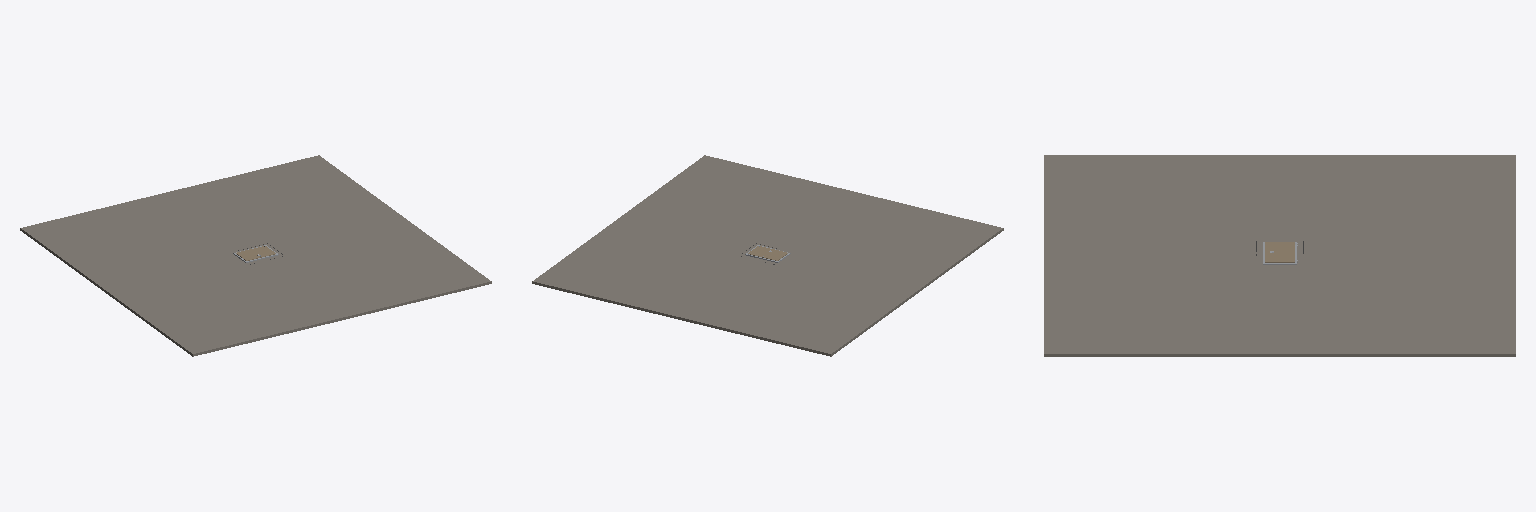
The robot description file, URDF, robot "db0452_hatch_floor_full":
<?xml version="1.0" ?>
<robot xmlns:doorbench="https://github.com/adamraudonis/DoorBench/schema/urdf-ext" name="db0452_hatch_floor_full">
  <link name="world_env">
    <visual name="floor_a_vis">
      <origin xyz="-3.3025 0 -0.05" rpy="0 0 0"/>
      <geometry>
        <box size="5.395 12 0.1"/>
      </geometry>
      <material name="mat_floor"/>
    </visual>
    <collision name="floor_a_col">
      <origin xyz="-3.3025 0 -0.05" rpy="0 0 0"/>
      <geometry>
        <box size="5.395 12 0.1"/>
      </geometry>
    </collision>
    <visual name="floor_b_vis">
      <origin xyz="3.3025 0 -0.05" rpy="0 0 0"/>
      <geometry>
        <box size="5.395 12 0.1"/>
      </geometry>
      <material name="mat_floor"/>
    </visual>
    <collision name="floor_b_col">
      <origin xyz="3.3025 0 -0.05" rpy="0 0 0"/>
      <geometry>
        <box size="5.395 12 0.1"/>
      </geometry>
    </collision>
    <visual name="floor_c_vis">
      <origin xyz="0 -3.1925 -0.05" rpy="0 0 0"/>
      <geometry>
        <box size="1.21 5.615 0.1"/>
      </geometry>
      <material name="mat_floor"/>
    </visual>
    <collision name="floor_c_col">
      <origin xyz="0 -3.1925 -0.05" rpy="0 0 0"/>
      <geometry>
        <box size="1.21 5.615 0.1"/>
      </geometry>
    </collision>
    <visual name="floor_d_vis">
      <origin xyz="0 3.1925 -0.05" rpy="0 0 0"/>
      <geometry>
        <box size="1.21 5.615 0.1"/>
      </geometry>
      <material name="mat_floor"/>
    </visual>
    <collision name="floor_d_col">
      <origin xyz="0 3.1925 -0.05" rpy="0 0 0"/>
      <geometry>
        <box size="1.21 5.615 0.1"/>
      </geometry>
    </collision>
    <visual name="pit_floor_vis">
      <origin xyz="0 0 -1.5" rpy="0 0 0"/>
      <geometry>
        <box size="1.61 1.17 0.04"/>
      </geometry>
      <material name="mat_pit"/>
    </visual>
    <collision name="pit_floor_col">
      <origin xyz="0 0 -1.5" rpy="0 0 0"/>
      <geometry>
        <box size="1.61 1.17 0.04"/>
      </geometry>
    </collision>
    <visual name="pit_wall_l_vis">
      <origin xyz="-0.815 0 -0.75" rpy="0 0 0"/>
      <geometry>
        <box size="0.02 1.21 1.5"/>
      </geometry>
      <material name="mat_pit"/>
    </visual>
    <collision name="pit_wall_l_col">
      <origin xyz="-0.815 0 -0.75" rpy="0 0 0"/>
      <geometry>
        <box size="0.02 1.21 1.5"/>
      </geometry>
    </collision>
    <visual name="pit_wall_r_vis">
      <origin xyz="0.815 0 -0.75" rpy="0 0 0"/>
      <geometry>
        <box size="0.02 1.21 1.5"/>
      </geometry>
      <material name="mat_pit"/>
    </visual>
    <collision name="pit_wall_r_col">
      <origin xyz="0.815 0 -0.75" rpy="0 0 0"/>
      <geometry>
        <box size="0.02 1.21 1.5"/>
      </geometry>
    </collision>
    <visual name="pit_wall_n_vis">
      <origin xyz="0 -0.595 -0.75" rpy="0 0 0"/>
      <geometry>
        <box size="1.61 0.02 1.5"/>
      </geometry>
      <material name="mat_pit"/>
    </visual>
    <collision name="pit_wall_n_col">
      <origin xyz="0 -0.595 -0.75" rpy="0 0 0"/>
      <geometry>
        <box size="1.61 0.02 1.5"/>
      </geometry>
    </collision>
    <visual name="pit_wall_f_vis">
      <origin xyz="0 0.595 -0.75" rpy="0 0 0"/>
      <geometry>
        <box size="1.61 0.02 1.5"/>
      </geometry>
      <material name="mat_pit"/>
    </visual>
    <collision name="pit_wall_f_col">
      <origin xyz="0 0.595 -0.75" rpy="0 0 0"/>
      <geometry>
        <box size="1.61 0.02 1.5"/>
      </geometry>
    </collision>
    <visual name="curb_l_vis">
      <origin xyz="-0.63 0 0.02" rpy="0 0 0"/>
      <geometry>
        <box size="0.05 0.87 0.04"/>
      </geometry>
      <material name="mat_frame"/>
    </visual>
    <collision name="curb_l_col">
      <origin xyz="-0.63 0 0.02" rpy="0 0 0"/>
      <geometry>
        <box size="0.05 0.87 0.04"/>
      </geometry>
    </collision>
    <visual name="curb_r_vis">
      <origin xyz="0.63 0 0.02" rpy="0 0 0"/>
      <geometry>
        <box size="0.05 0.87 0.04"/>
      </geometry>
      <material name="mat_frame"/>
    </visual>
    <collision name="curb_r_col">
      <origin xyz="0.63 0 0.02" rpy="0 0 0"/>
      <geometry>
        <box size="0.05 0.87 0.04"/>
      </geometry>
    </collision>
    <visual name="curb_n_vis">
      <origin xyz="0 -0.41 0.02" rpy="0 0 0"/>
      <geometry>
        <box size="1.21 0.05 0.04"/>
      </geometry>
      <material name="mat_frame"/>
    </visual>
    <collision name="curb_n_col">
      <origin xyz="0 -0.41 0.02" rpy="0 0 0"/>
      <geometry>
        <box size="1.21 0.05 0.04"/>
      </geometry>
    </collision>
    <visual name="curb_f_vis">
      <origin xyz="0 0.41 0.02" rpy="0 0 0"/>
      <geometry>
        <box size="1.21 0.05 0.04"/>
      </geometry>
      <material name="mat_frame"/>
    </visual>
    <collision name="curb_f_col">
      <origin xyz="0 0.41 0.02" rpy="0 0 0"/>
      <geometry>
        <box size="1.21 0.05 0.04"/>
      </geometry>
    </collision>
    <visual name="hatch_hinge_0_curb_n_vis">
      <origin xyz="-0.554 0.395 0.04" rpy="0 1.570796 0"/>
      <geometry>
        <cylinder radius="0.01" length="0.036"/>
      </geometry>
      <material name="mat_hinge"/>
    </visual>
    <visual name="hatch_hinge_0_curb_strap_n_vis">
      <origin xyz="-0.554 0.415 0.03" rpy="0 0 0"/>
      <geometry>
        <box size="0.036 0.064 0.01"/>
      </geometry>
      <material name="mat_hinge"/>
    </visual>
    <visual name="hatch_hinge_0_curb_p_vis">
      <origin xyz="-0.466 0.395 0.04" rpy="0 1.570796 0"/>
      <geometry>
        <cylinder radius="0.01" length="0.036"/>
      </geometry>
      <material name="mat_hinge"/>
    </visual>
    <visual name="hatch_hinge_0_curb_strap_p_vis">
      <origin xyz="-0.466 0.415 0.03" rpy="0 0 0"/>
      <geometry>
        <box size="0.036 0.064 0.01"/>
      </geometry>
      <material name="mat_hinge"/>
    </visual>
    <visual name="hatch_hinge_1_curb_n_vis">
      <origin xyz="0.466 0.395 0.04" rpy="0 1.570796 0"/>
      <geometry>
        <cylinder radius="0.01" length="0.036"/>
      </geometry>
      <material name="mat_hinge"/>
    </visual>
    <visual name="hatch_hinge_1_curb_strap_n_vis">
      <origin xyz="0.466 0.415 0.03" rpy="0 0 0"/>
      <geometry>
        <box size="0.036 0.064 0.01"/>
      </geometry>
      <material name="mat_hinge"/>
    </visual>
    <visual name="hatch_hinge_1_curb_p_vis">
      <origin xyz="0.554 0.395 0.04" rpy="0 1.570796 0"/>
      <geometry>
        <cylinder radius="0.01" length="0.036"/>
      </geometry>
      <material name="mat_hinge"/>
    </visual>
    <visual name="hatch_hinge_1_curb_strap_p_vis">
      <origin xyz="0.554 0.415 0.03" rpy="0 0 0"/>
      <geometry>
        <box size="0.036 0.064 0.01"/>
      </geometry>
      <material name="mat_hinge"/>
    </visual>
  </link>
  <link name="hatch">
    <inertial>
      <origin xyz="0.022798 -0.384677 -0.005793" rpy="0 0 0"/>
      <mass value="23.4655"/>
      <inertia ixx="1.181739154" ixy="-0.03566943" ixz="0.077145052" iyy="3.094509935" iyz="0.016095113" izz="4.213448346"/>
    </inertial>
    <visual name="hatch_slab_vis">
      <origin xyz="0 -0.395 0" rpy="0 0 0"/>
      <geometry>
        <box size="1.2 0.762 0.032"/>
      </geometry>
      <material name="mat_leaf"/>
    </visual>
    <collision name="hatch_slab_col">
      <origin xyz="0 -0.395 0" rpy="0 0 0"/>
      <geometry>
        <box size="1.2 0.762 0.032"/>
      </geometry>
    </collision>
    <visual name="hatch_hinge_0_vis">
      <origin xyz="-0.51 0 0" rpy="0 1.570796 0"/>
      <geometry>
        <cylinder radius="0.01" length="0.056"/>
      </geometry>
      <material name="mat_hinge"/>
    </visual>
    <visual name="hatch_hinge_0_strap_vis">
      <origin xyz="-0.51 -0.017 0.005" rpy="0 0 0"/>
      <geometry>
        <box size="0.056 0.046 0.006"/>
      </geometry>
      <material name="mat_hinge"/>
    </visual>
    <visual name="hatch_hinge_1_vis">
      <origin xyz="0.51 0 0" rpy="0 1.570796 0"/>
      <geometry>
        <cylinder radius="0.01" length="0.056"/>
      </geometry>
      <material name="mat_hinge"/>
    </visual>
    <visual name="hatch_hinge_1_strap_vis">
      <origin xyz="0.51 -0.017 0.005" rpy="0 0 0"/>
      <geometry>
        <box size="0.056 0.046 0.006"/>
      </geometry>
      <material name="mat_hinge"/>
    </visual>
    <visual name="rivet_0_0_vis">
      <origin xyz="-0.54 -0.07 0.016" rpy="0 0 0"/>
      <geometry>
        <sphere radius="0.01"/>
      </geometry>
      <material name="mat_rivet"/>
    </visual>
    <visual name="rivet_0_1_vis">
      <origin xyz="0 -0.07 0.016" rpy="0 0 0"/>
      <geometry>
        <sphere radius="0.01"/>
      </geometry>
      <material name="mat_rivet"/>
    </visual>
    <visual name="rivet_0_2_vis">
      <origin xyz="0.54 -0.07 0.016" rpy="0 0 0"/>
      <geometry>
        <sphere radius="0.01"/>
      </geometry>
      <material name="mat_rivet"/>
    </visual>
    <visual name="rivet_1_0_vis">
      <origin xyz="-0.54 -0.286667 0.016" rpy="0 0 0"/>
      <geometry>
        <sphere radius="0.01"/>
      </geometry>
      <material name="mat_rivet"/>
    </visual>
    <visual name="rivet_1_1_vis">
      <origin xyz="0 -0.286667 0.016" rpy="0 0 0"/>
      <geometry>
        <sphere radius="0.01"/>
      </geometry>
      <material name="mat_rivet"/>
    </visual>
    <visual name="rivet_1_2_vis">
      <origin xyz="0.54 -0.286667 0.016" rpy="0 0 0"/>
      <geometry>
        <sphere radius="0.01"/>
      </geometry>
      <material name="mat_rivet"/>
    </visual>
    <visual name="rivet_2_0_vis">
      <origin xyz="-0.54 -0.503333 0.016" rpy="0 0 0"/>
      <geometry>
        <sphere radius="0.01"/>
      </geometry>
      <material name="mat_rivet"/>
    </visual>
    <visual name="rivet_2_1_vis">
      <origin xyz="0 -0.503333 0.016" rpy="0 0 0"/>
      <geometry>
        <sphere radius="0.01"/>
      </geometry>
      <material name="mat_rivet"/>
    </visual>
    <visual name="rivet_2_2_vis">
      <origin xyz="0.54 -0.503333 0.016" rpy="0 0 0"/>
      <geometry>
        <sphere radius="0.01"/>
      </geometry>
      <material name="mat_rivet"/>
    </visual>
    <visual name="rivet_3_0_vis">
      <origin xyz="-0.54 -0.72 0.016" rpy="0 0 0"/>
      <geometry>
        <sphere radius="0.01"/>
      </geometry>
      <material name="mat_rivet"/>
    </visual>
    <visual name="rivet_3_1_vis">
      <origin xyz="0 -0.72 0.016" rpy="0 0 0"/>
      <geometry>
        <sphere radius="0.01"/>
      </geometry>
      <material name="mat_rivet"/>
    </visual>
    <visual name="rivet_3_2_vis">
      <origin xyz="0.54 -0.72 0.016" rpy="0 0 0"/>
      <geometry>
        <sphere radius="0.01"/>
      </geometry>
      <material name="mat_rivet"/>
    </visual>
    <visual name="ring_recess_vis">
      <origin xyz="0 -0.5875 0.017" rpy="0 0 0"/>
      <geometry>
        <box size="0.1 0.1 0.002"/>
      </geometry>
      <material name="mat_op_steel_galvanized"/>
    </visual>
    <visual name="gas_strut_vis">
      <origin xyz="0.55 -0.318 -0.15" rpy="-2.498092 0 0"/>
      <geometry>
        <cylinder radius="0.01" length="0.4"/>
      </geometry>
      <material name="mat_strut"/>
    </visual>
  </link>
  <link name="ring">
    <inertial>
      <origin xyz="0 0.019982 0.002997" rpy="0 0 0"/>
      <mass value="0.2225"/>
      <inertia ixx="0.000076951" ixy="0" ixz="0" iyy="0.000084455" iyz="-0.000008269" izz="0.00015403"/>
    </inertial>
    <visual name="ring_geom_vis">
      <origin xyz="0 0.04 0.006" rpy="0 1.570796 0"/>
      <geometry>
        <cylinder radius="0.006" length="0.07"/>
      </geometry>
      <material name="mat_op_steel_galvanized"/>
    </visual>
    <collision name="ring_geom_col">
      <origin xyz="0 0.04 0.006" rpy="0 1.570796 0"/>
      <geometry>
        <cylinder radius="0.006" length="0.07"/>
      </geometry>
    </collision>
    <visual name="ring_knuckle_vis">
      <origin xyz="0 0 0" rpy="0 1.570796 0"/>
      <geometry>
        <cylinder radius="0.008" length="0.044"/>
      </geometry>
      <material name="mat_op_steel_galvanized"/>
    </visual>
    <visual name="ring_arm_n_vis">
      <origin xyz="-0.02 0.02 0.003" rpy="-1.570796 0 0"/>
      <geometry>
        <cylinder radius="0.006" length="0.04"/>
      </geometry>
      <material name="mat_op_steel_galvanized"/>
    </visual>
    <visual name="ring_arm_p_vis">
      <origin xyz="0.02 0.02 0.003" rpy="-1.570796 0 0"/>
      <geometry>
        <cylinder radius="0.006" length="0.04"/>
      </geometry>
      <material name="mat_op_steel_galvanized"/>
    </visual>
  </link>
  <joint name="hatch_hinge" type="revolute">
    <origin xyz="0 0.395 0.04" rpy="0 0 0"/>
    <parent link="world_env"/>
    <child link="hatch"/>
    <axis xyz="-1 0 0"/>
    <limit lower="0" upper="1.570796" effort="2000" velocity="10"/>
    <dynamics damping="30.784614" friction="0.669024"/>
    <doorbench:spring stiffness="24" springref="-3.333333" note="tau = -stiffness*(q - springref); not native URDF"/>
  </joint>
  <joint name="ring_hinge" type="revolute">
    <origin xyz="0 -0.5875 0.016" rpy="0 0 0"/>
    <parent link="hatch"/>
    <child link="ring"/>
    <axis xyz="1 0 0"/>
    <limit lower="0" upper="1.392122" effort="2000" velocity="10"/>
    <dynamics damping="0.003476" friction="0"/>
  </joint>
  <material name="mat_floor">
    <color rgba="0.55 0.53 0.5 1"/>
  </material>
  <material name="mat_frame">
    <color rgba="0.65 0.66 0.68 1"/>
  </material>
  <material name="mat_hinge">
    <color rgba="0.65 0.66 0.68 1"/>
  </material>
  <material name="mat_leaf">
    <color rgba="0.6 0.54 0.46 1"/>
  </material>
  <material name="mat_op_steel_galvanized">
    <color rgba="0.65 0.66 0.68 1"/>
  </material>
  <material name="mat_pit">
    <color rgba="0.3 0.3 0.3 1"/>
  </material>
  <material name="mat_rivet">
    <color rgba="0.55 0.56 0.58 1"/>
  </material>
  <material name="mat_strut">
    <color rgba="0.75 0.76 0.77 1"/>
  </material>
</robot>

--- What the picture shows (computed from the rendered views, not written in the file) ---
3 views of the same robot in one strip: view 1: azimuth 30°, elevation 25°; view 2: azimuth 150°, elevation 25°; view 3: azimuth 270°, elevation 25° (orthographic).
Robot: db0452_hatch_floor_full — 3 links, 2 joints (2 revolute); root link world_env; default pose: every joint at zero.
Visible links, largest first — view 1: world_env; view 2: world_env; view 3: world_env, hatch.
Boxes of the visible links, x1,y1,x2,y2 form: world_env: [20, 155, 491, 356]; world_env: [532, 155, 1003, 356]; world_env: [1044, 155, 1515, 356]; hatch: [1265, 242, 1295, 262].
Size in the robot's own frame: 12 by 12 by 1.59 metres.
Geometry: primitives only (box / cylinder / sphere), no mesh files.
